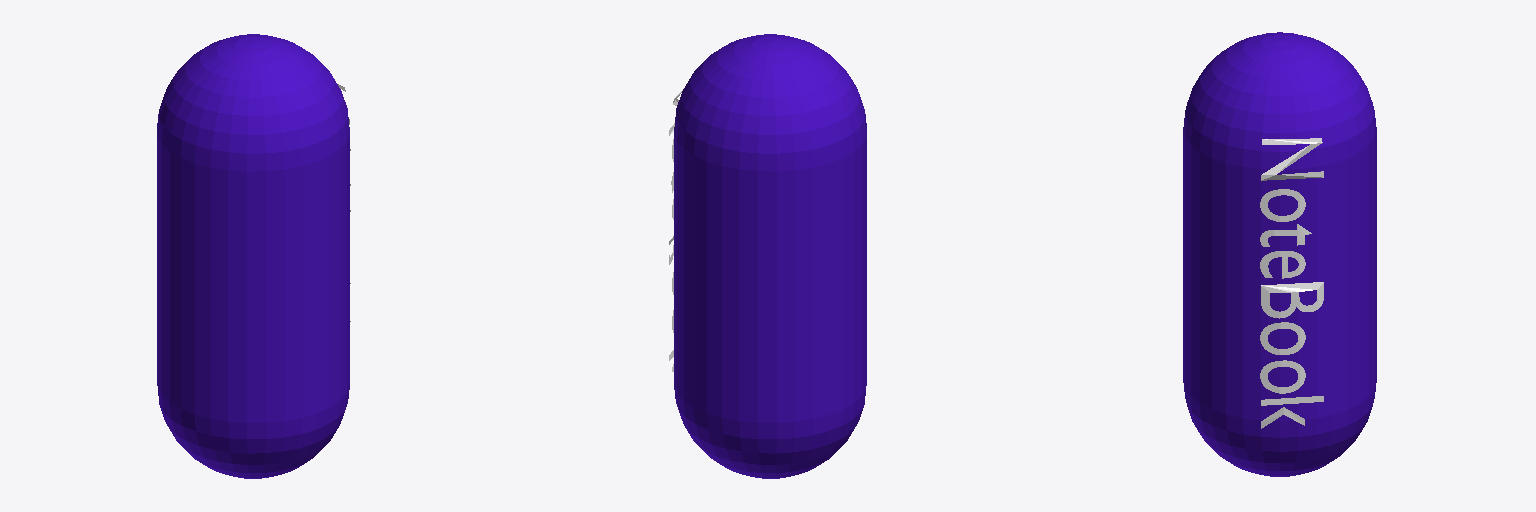
Rendered from notebook1.obj.
The picture shows the model from 3 angles: view 1: azimuth 30°, elevation 25°; view 2: azimuth 150°, elevation 25°; view 3: azimuth 270°, elevation 25°; orthographic projection.
Parts seen in each view (by area): view 1: Sphere; view 2: Sphere; view 3: Sphere, Text.
Part boxes in pixels (left/top/right/bottom): Sphere: left=157, top=34, right=349, bottom=478; Sphere: left=674, top=34, right=866, bottom=478; Sphere: left=1183, top=32, right=1376, bottom=476; Text: left=1260, top=138, right=1323, bottom=428.
Bounding box in the file's own units: 2.06 × 4.87 × 2.